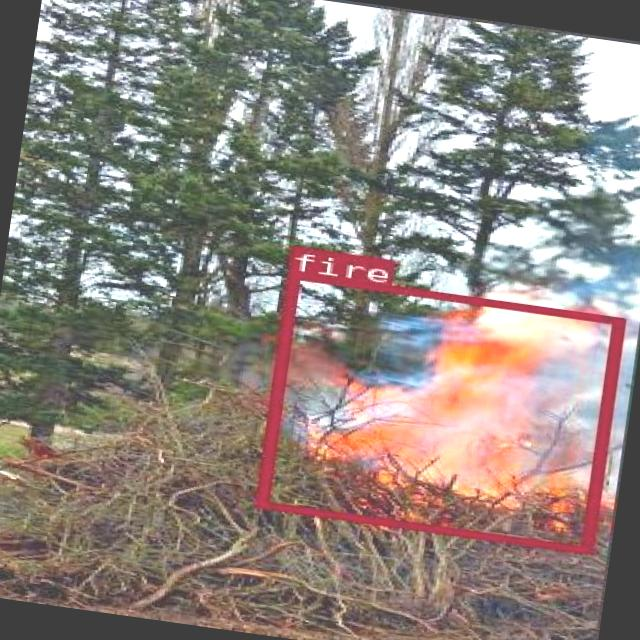fire: (254, 270, 624, 552)
